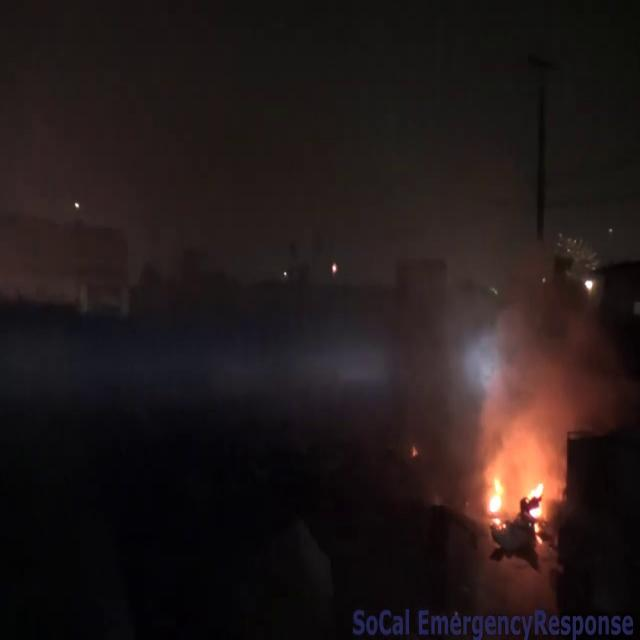Fire: (483, 452, 551, 527)
Smoke: (455, 292, 633, 460)
